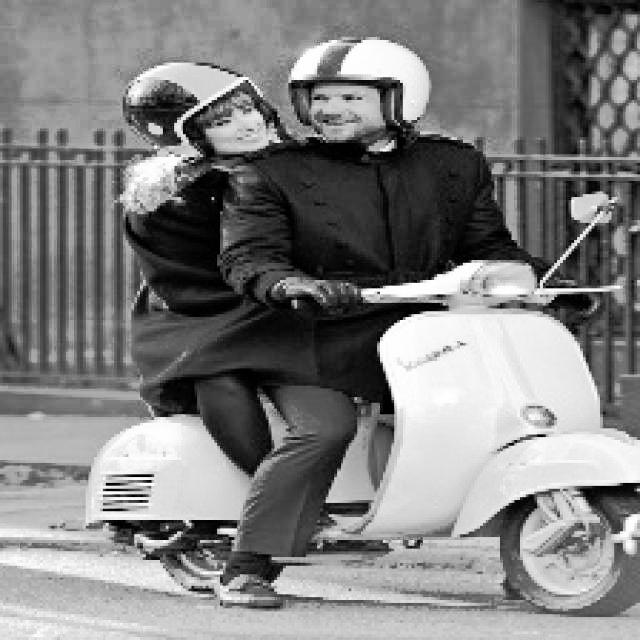Bike: (127, 276, 631, 635)
